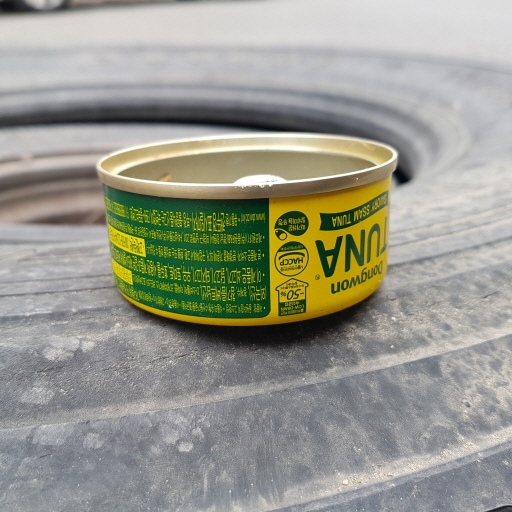Metal_1: (92, 133, 402, 327)
